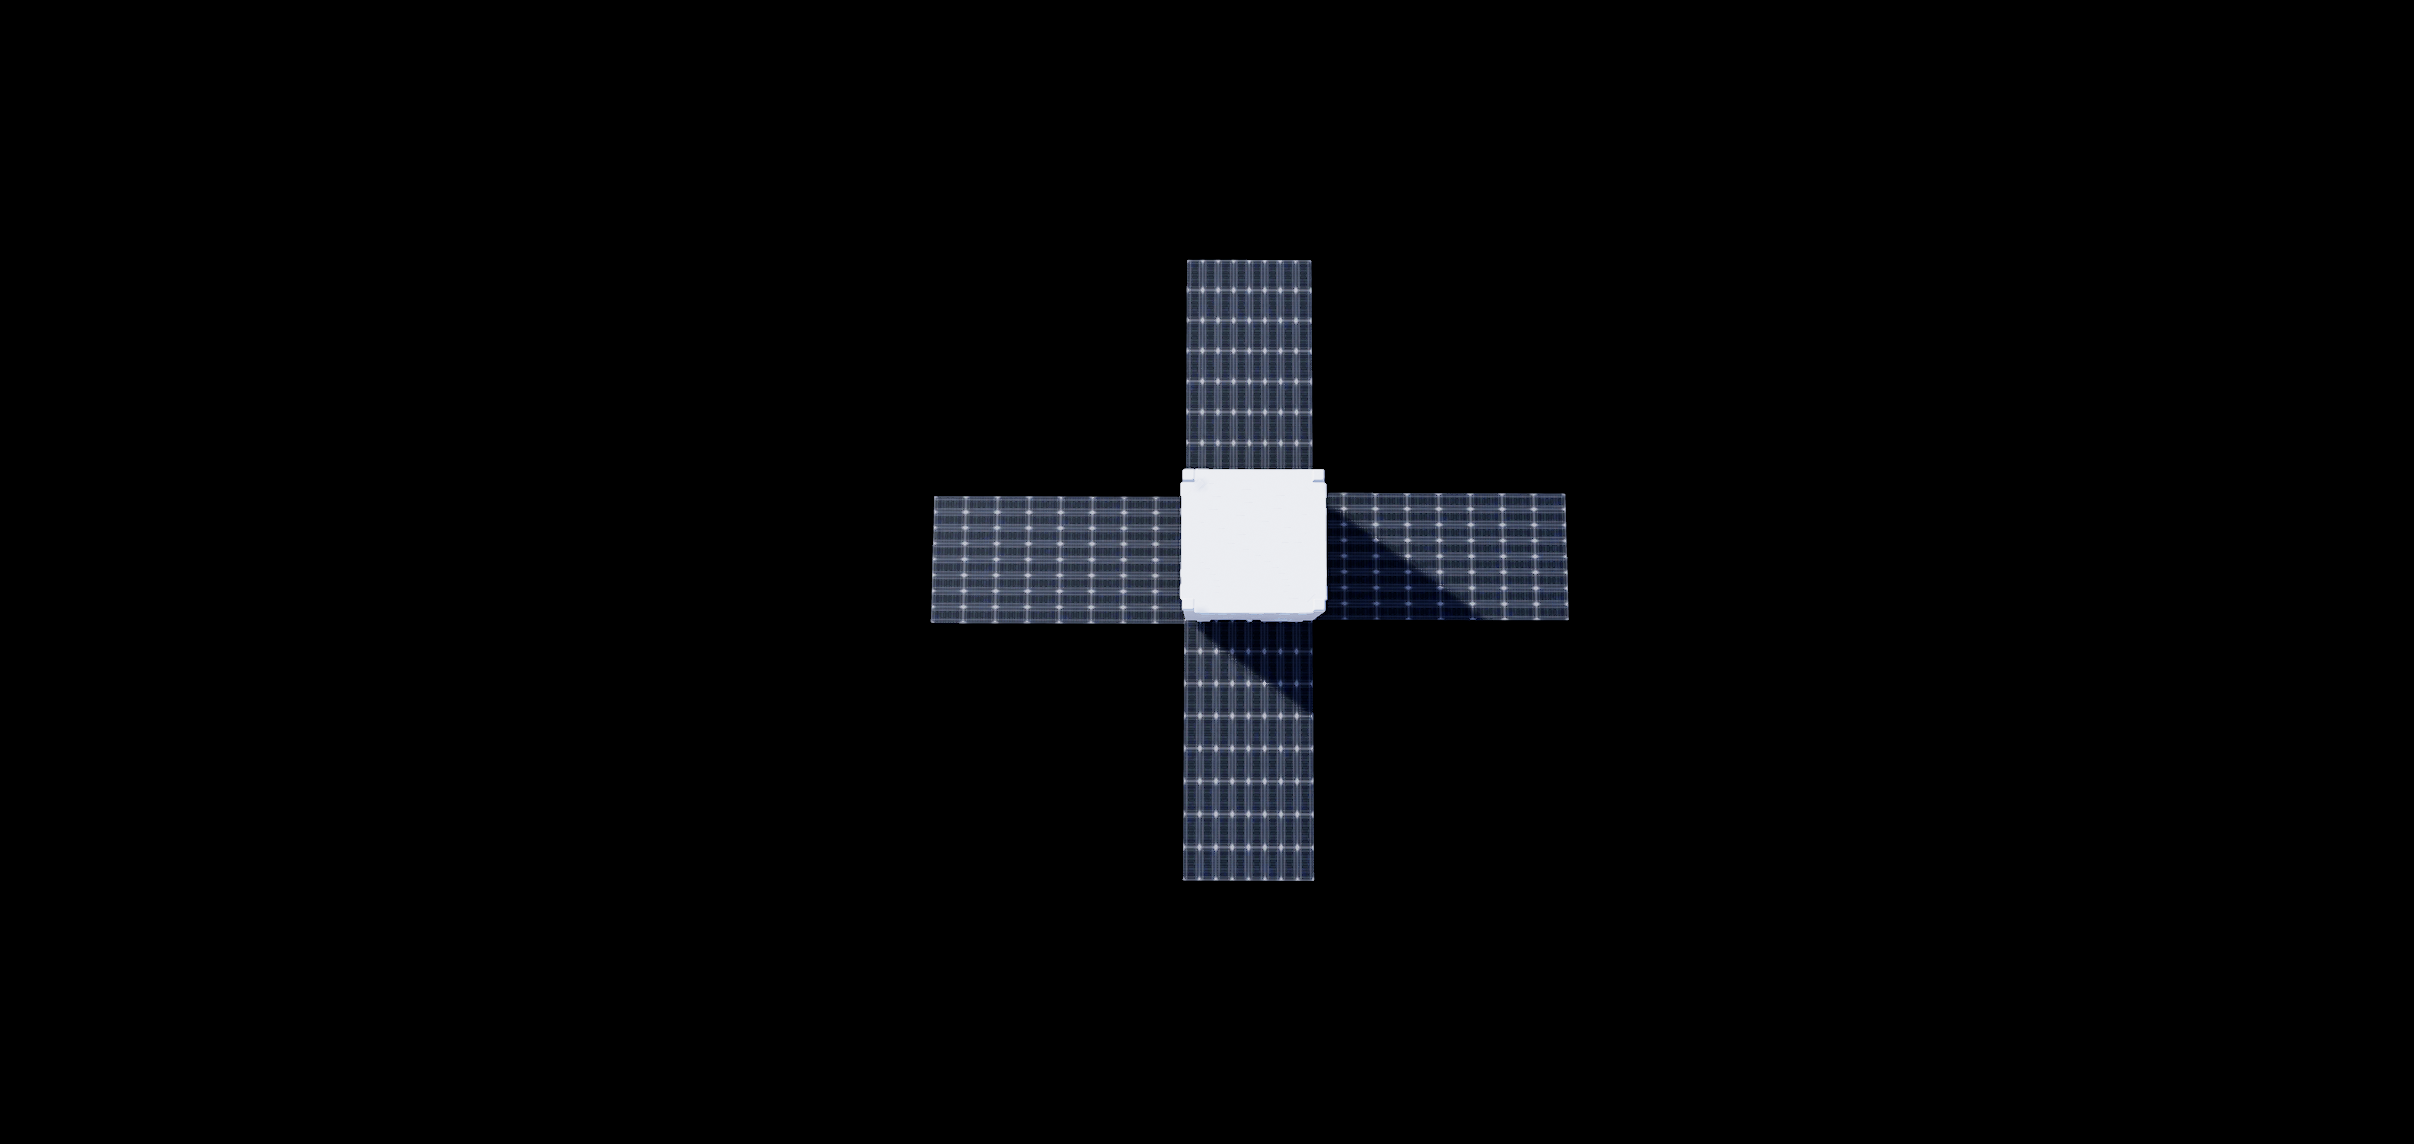satellite: (919, 236, 1583, 912)
